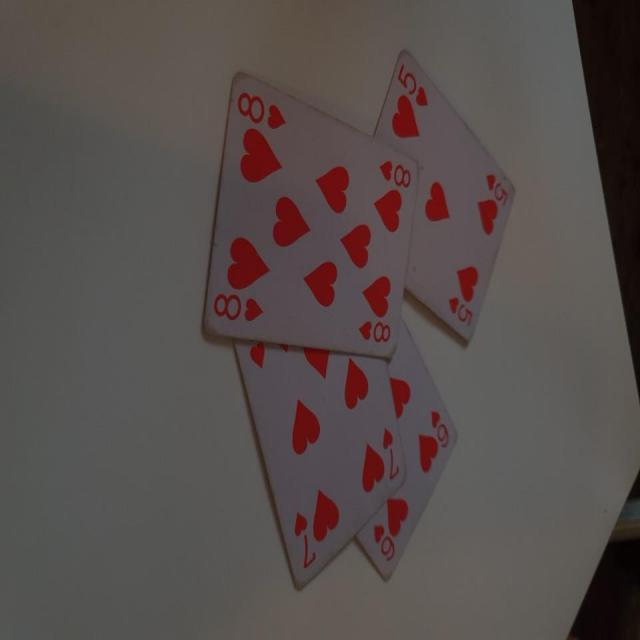5 of hearts: (362, 38, 516, 355)
6 of hearts: (352, 310, 470, 586)
7 of hearts: (227, 338, 412, 596)
8 of hearts: (190, 65, 426, 359)
